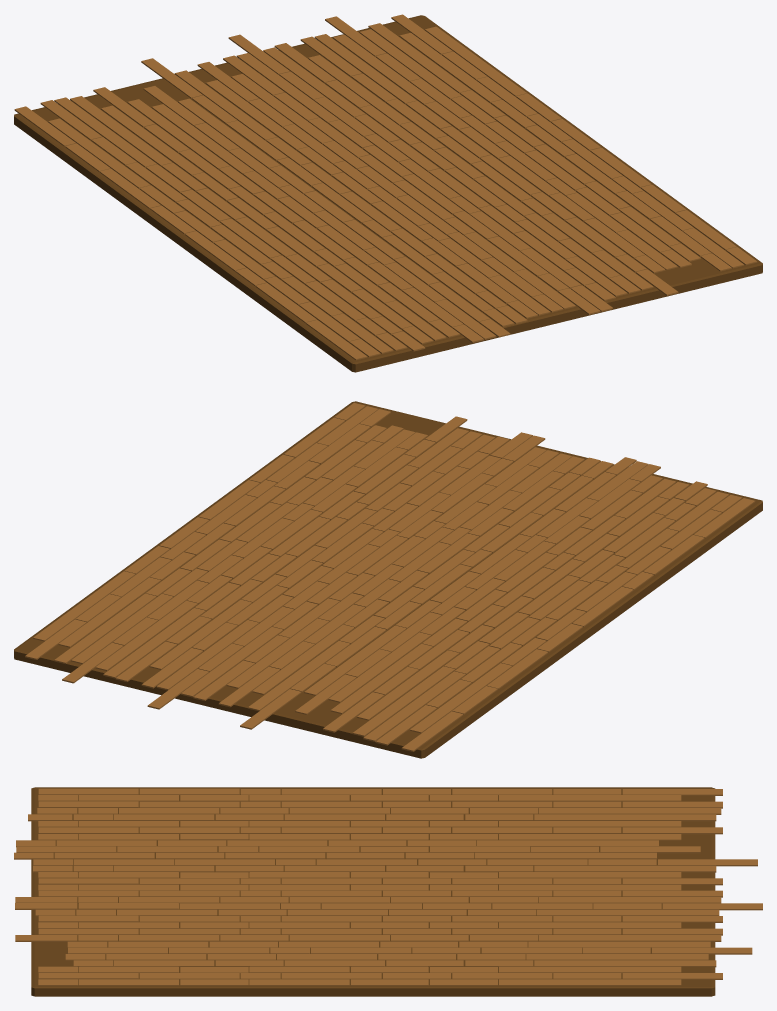
Rendered from floorbig.fbx.
The picture shows the model from 3 angles, top to bottom: view 1: azimuth 30°, elevation 25°; view 2: azimuth 150°, elevation 25°; view 3: azimuth 270°, elevation 25°; orthographic projection.
Parts seen in each view (by area): view 1: Plane, Plane.035, Plane.208, Plane.061, Plane.089, Plane.148, Plane.164, Plane.190, Plane.076, Plane.115, Plane.120, Plane.161 (+106 smaller); view 2: Plane, Plane.208, Plane.035, Plane.089, Plane.052, Plane.076, Plane.148, Plane.177, Plane.115, Plane.161, Plane.020, Plane.061 (+106 smaller); view 3: Plane, Plane.098, Plane.076, Plane.177, Plane.148, Plane.161, Plane.052, Plane.137, Plane.015, Plane.061, Plane.089, Plane.120 (+190 smaller).
Part boxes in pixels (bbox=[...]): Plane: bbox=[14, 15, 762, 372]; Plane.035: bbox=[236, 53, 339, 122]; Plane.208: bbox=[54, 97, 156, 167]; Plane.061: bbox=[308, 55, 410, 125]; Plane.089: bbox=[314, 34, 416, 104]; Plane.148: bbox=[368, 23, 470, 93]; Plane.164: bbox=[424, 26, 527, 96]; Plane.190: bbox=[101, 105, 203, 175]; Plane.076: bbox=[174, 70, 276, 140]; Plane.115: bbox=[151, 104, 253, 174]; Plane.120: bbox=[359, 29, 461, 99]; Plane.161: bbox=[399, 33, 501, 102]; Plane: bbox=[14, 401, 762, 758]; Plane.208: bbox=[363, 671, 465, 741]; Plane.035: bbox=[181, 627, 283, 697]; Plane.089: bbox=[103, 608, 205, 678]; Plane.052: bbox=[156, 620, 259, 690]; Plane.076: bbox=[248, 641, 350, 711]; Plane.148: bbox=[54, 593, 156, 663]; Plane.177: bbox=[352, 666, 455, 736]; Plane.115: bbox=[328, 632, 430, 702]; Plane.161: bbox=[58, 577, 160, 647]; Plane.020: bbox=[252, 624, 354, 694]; Plane.061: bbox=[149, 599, 252, 669]; Plane: bbox=[31, 787, 715, 996]; Plane.098: bbox=[474, 852, 656, 859]; Plane.076: bbox=[534, 865, 716, 872]; Plane.177: bbox=[534, 814, 716, 821]; Plane.148: bbox=[534, 960, 716, 967]; Plane.161: bbox=[499, 966, 681, 973]; Plane.052: bbox=[537, 909, 719, 916]; Plane.137: bbox=[528, 941, 710, 948]; Plane.015: bbox=[499, 884, 681, 891]; Plane.061: bbox=[499, 922, 681, 928]; Plane.089: bbox=[539, 935, 721, 941]; Plane.120: bbox=[526, 954, 708, 960].
Bounding box in the file's own units: 948 × 22.45 × 1494.
